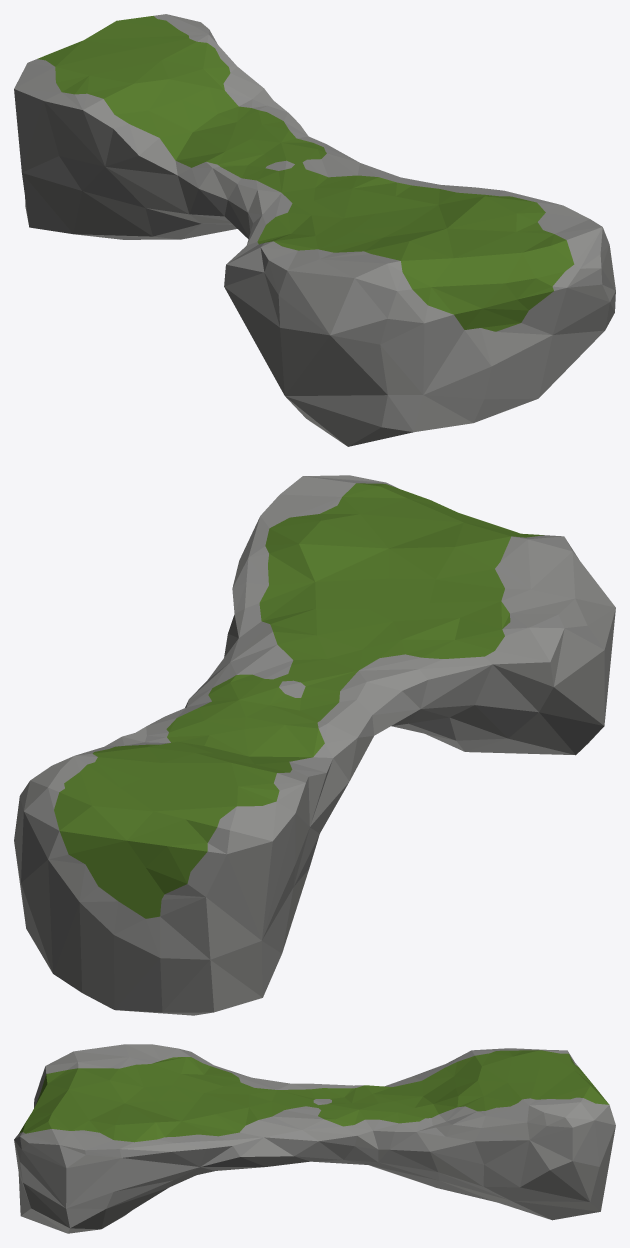
The model's file is Cavern_FloorGrass_Narrow_Bridge_Lrg-02.fbx.
The picture shows the model from 3 angles, top to bottom: view 1: azimuth 30°, elevation 25°; view 2: azimuth 150°, elevation 25°; view 3: azimuth 270°, elevation 25°; orthographic projection. The views are drawn at different scales.
Visible parts, largest first — view 1: Cavern_FloorGrass_Narrow_Bridge_Lrg-02; view 2: Cavern_FloorGrass_Narrow_Bridge_Lrg-02; view 3: Cavern_FloorGrass_Narrow_Bridge_Lrg-02.
Part boxes in pixels (box(x1,y1,x2,y2)): Cavern_FloorGrass_Narrow_Bridge_Lrg-02: box(14, 14, 615, 446); Cavern_FloorGrass_Narrow_Bridge_Lrg-02: box(14, 475, 615, 1015); Cavern_FloorGrass_Narrow_Bridge_Lrg-02: box(14, 1044, 615, 1233).
Size of the model in its own units: 992 by 554 by 2055.
1 material, 1 textured.
